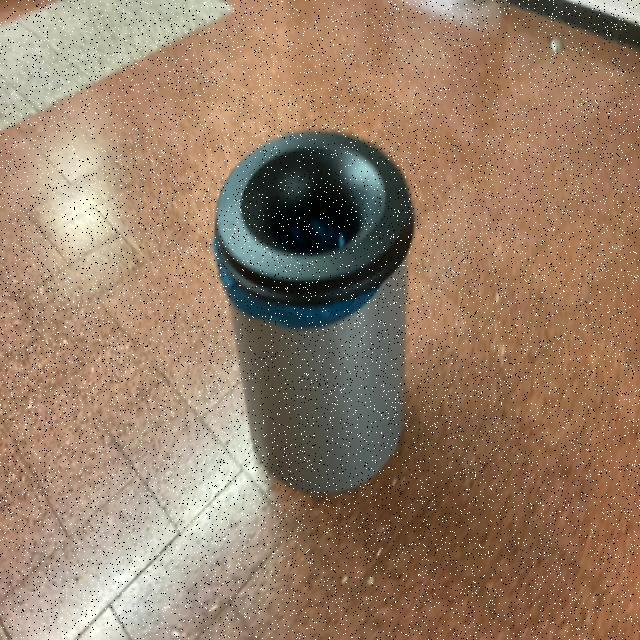garbage container: (202, 110, 428, 507)
